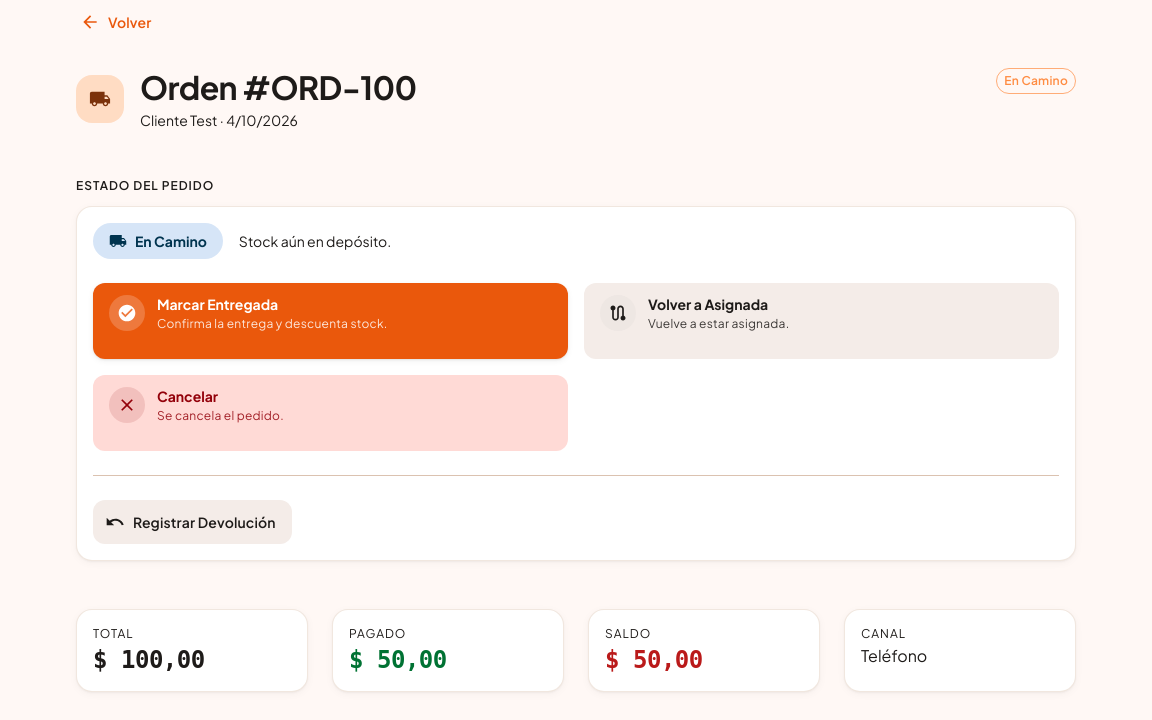
Test: OrderDetailPage — status change confirmation › opens the confirmation dialog without firing the transition
Expected: the heading "Orden #ORD-100" is shown, left=140, top=68, right=416, bottom=106
Click the button "Marcar Entregada Confirma la entrega y descuenta stock." at (330,321), box left=93, top=283, right=568, bottom=359
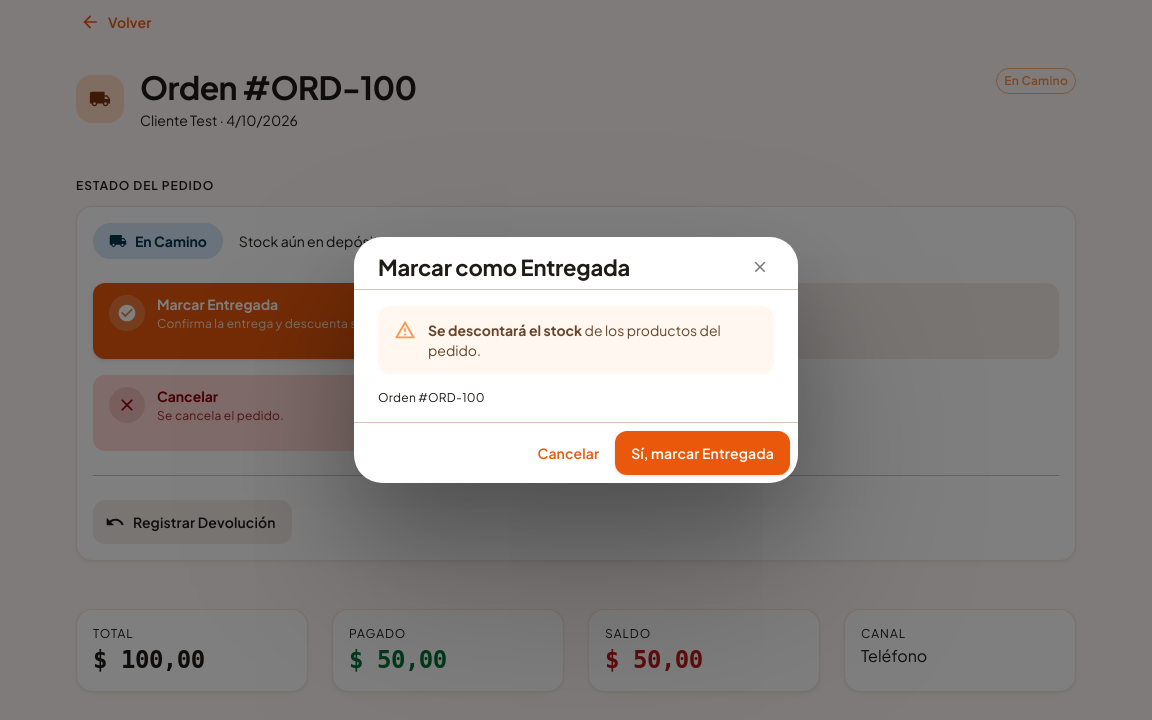
Expected: the heading "Marcar como Entregada" is shown, left=378, top=253, right=774, bottom=281
Expected: the text "Se descontará el stock" is shown, left=428, top=321, right=582, bottom=339
